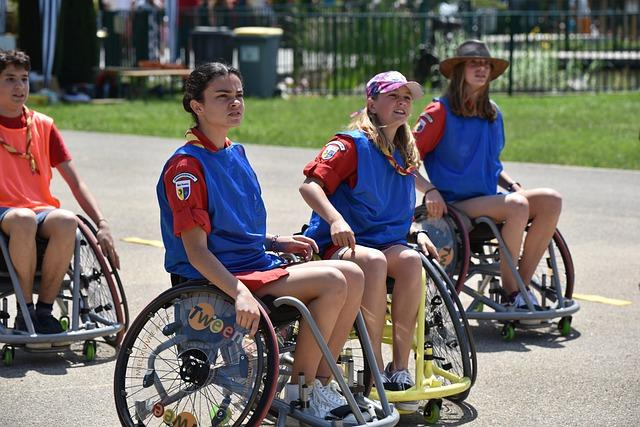wheelchair: (113, 61, 401, 427), (294, 71, 478, 425), (390, 39, 580, 342), (0, 50, 130, 367)
